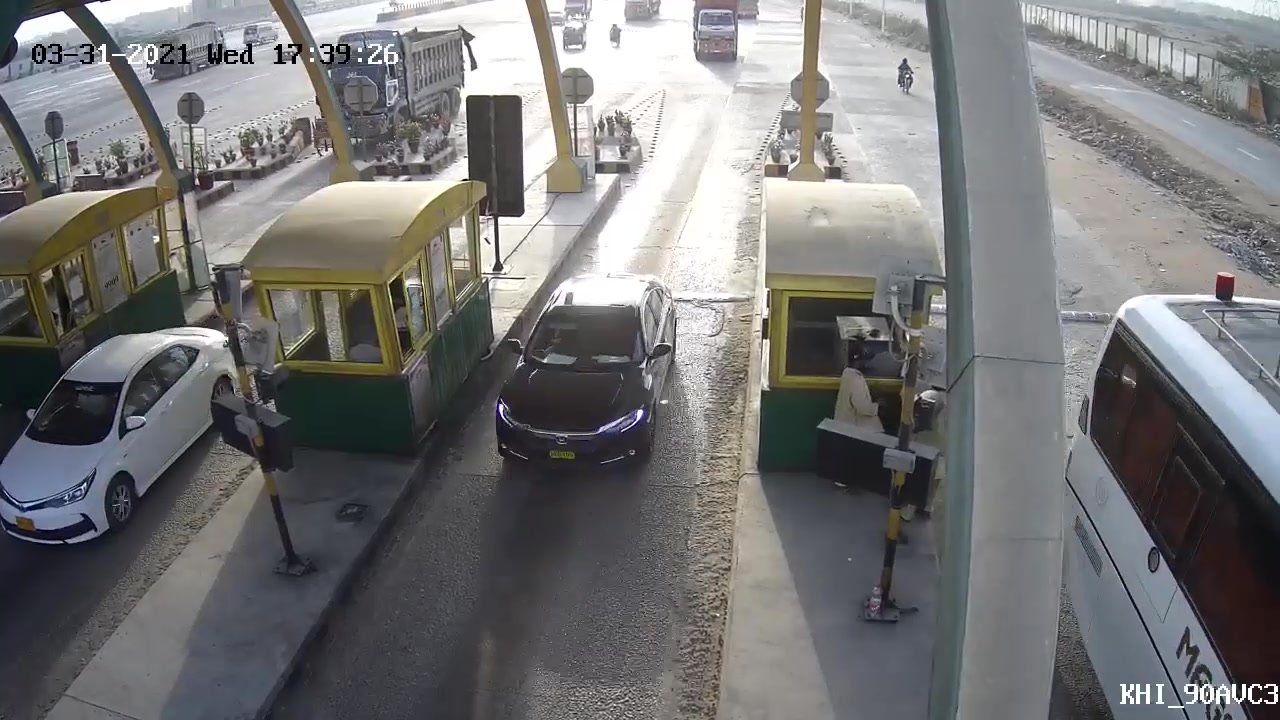F1: (478, 272, 686, 473)
